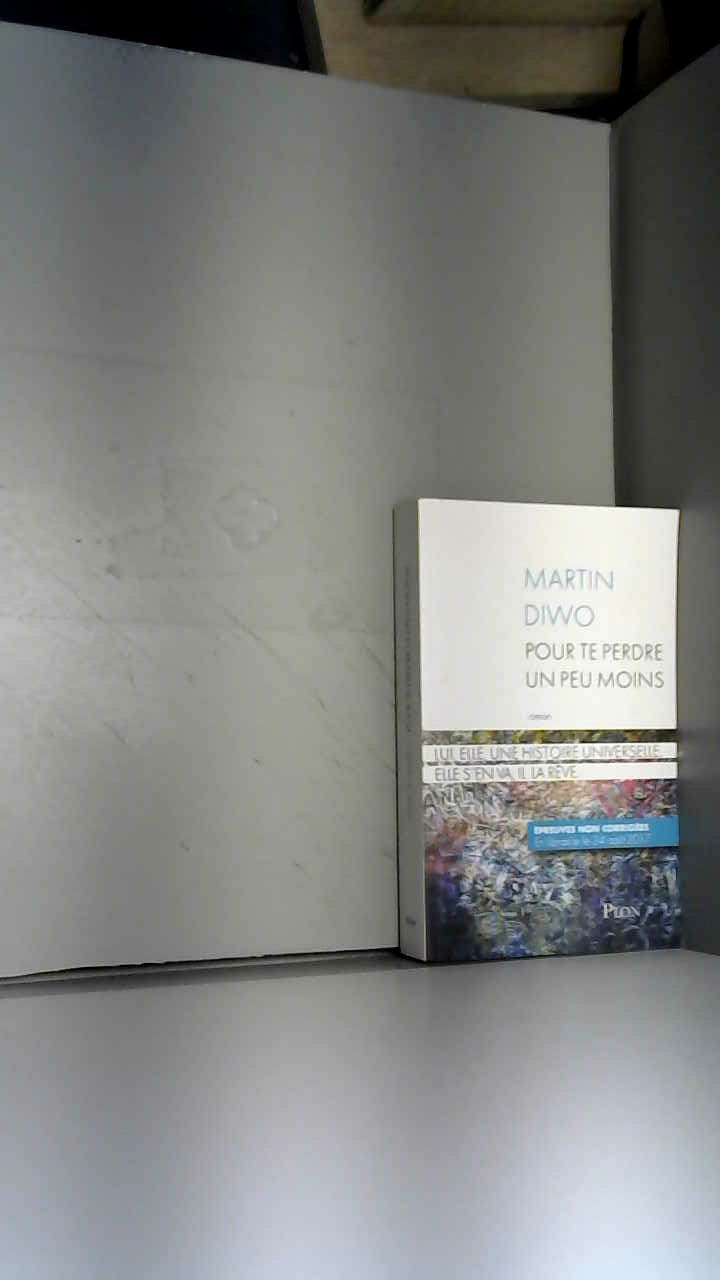book: (358, 464, 709, 1001)
